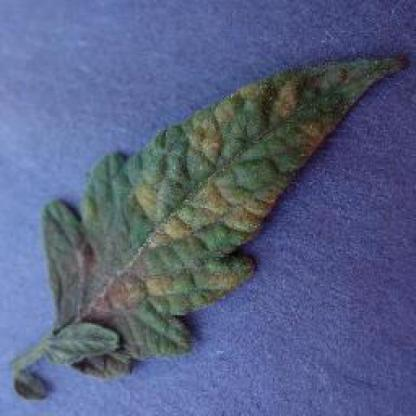Tomato_Leaf_Mold: (46, 57, 412, 377)
